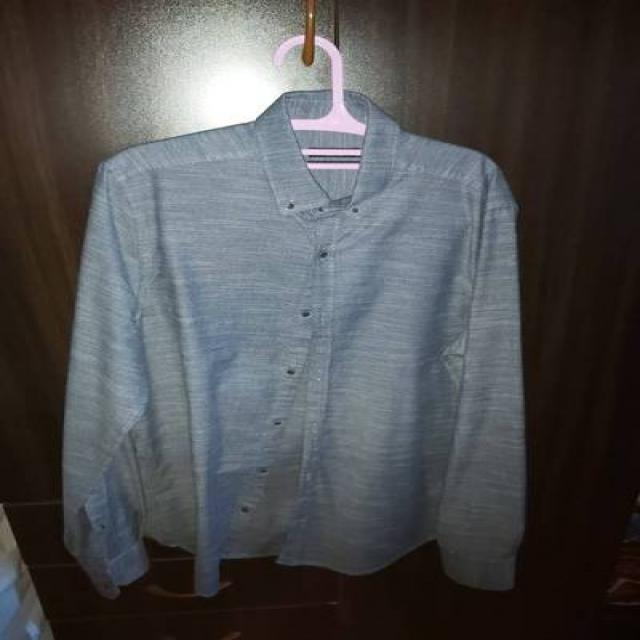Clothes -Biodegradable-: (57, 87, 519, 603)
